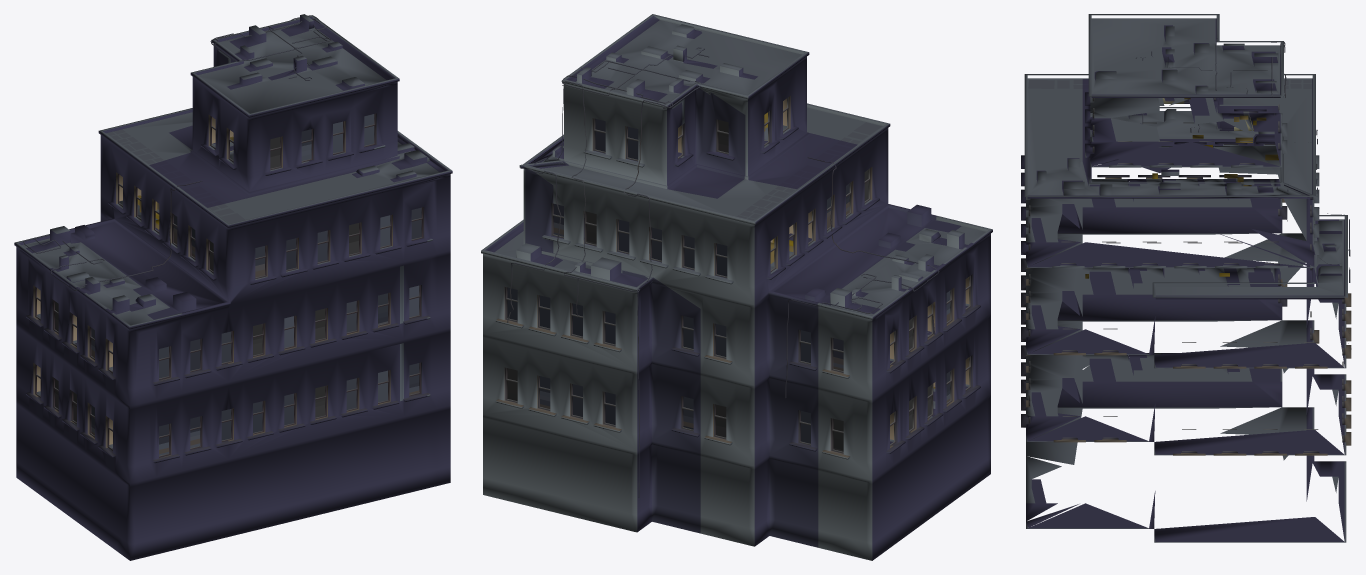
The model's file is mesh_bdg_C_09.gltf.
The picture shows the model from 3 angles, left to right: view 1: azimuth 30°, elevation 25°; view 2: azimuth 150°, elevation 25°; view 3: azimuth 270°, elevation 25°; orthographic projection. The views are drawn at different scales.
Visible parts, largest first — view 1: geo1; view 2: geo1; view 3: geo1.
Boxes of the visible parts, left/top/right/bottom form: geo1: left=14, top=14, right=452, bottom=560; geo1: left=481, top=14, right=992, bottom=560; geo1: left=1021, top=14, right=1351, bottom=542.
Size of the model in its own units: 14.32 by 15.45 by 10.34.
